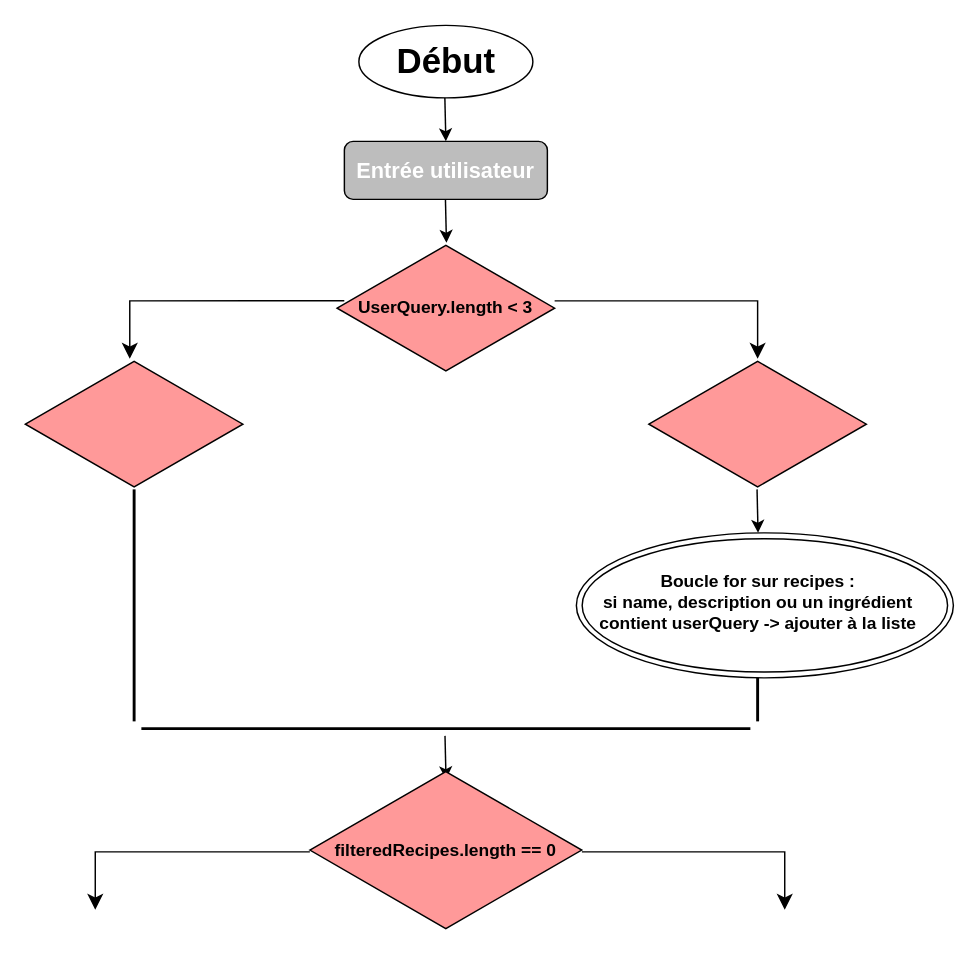
The diagram is 979 pixels wide and 957 high, and some of its shapes have lost their labels. The shapes that lost their labels are listed below. From the top down, each one's box as (x1, y1, x2, y2) in pixels, then its label:
(24, 357, 243, 489): filteredRecipes = recipes
(647, 357, 866, 489): filteredRecipes = []
